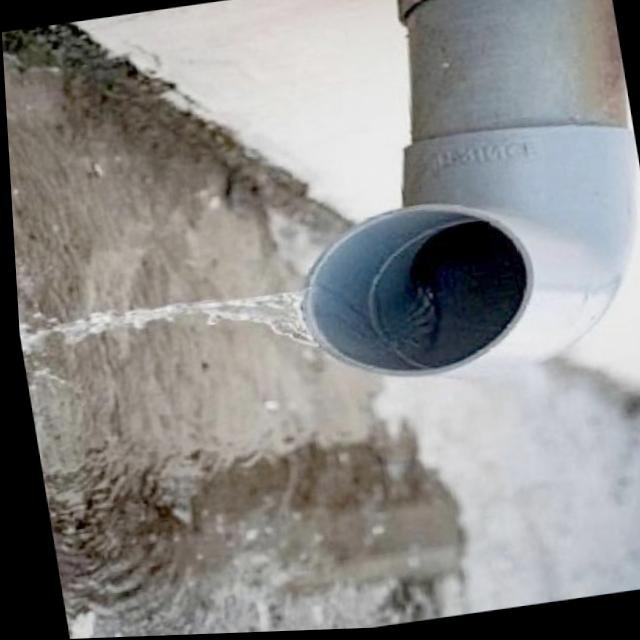leak: (19, 290, 317, 353)
